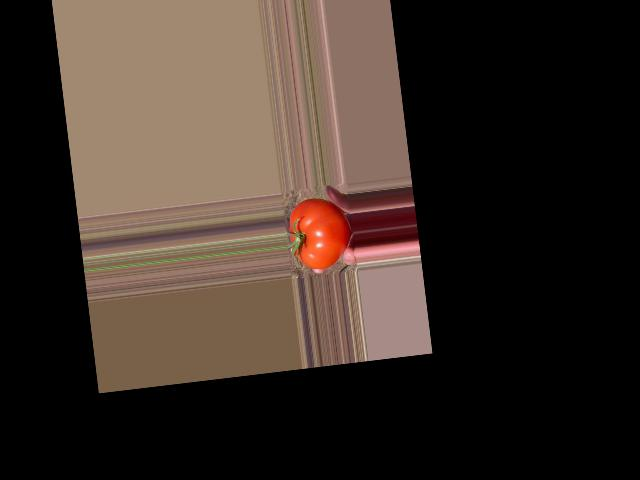tomato: (286, 195, 354, 272)
